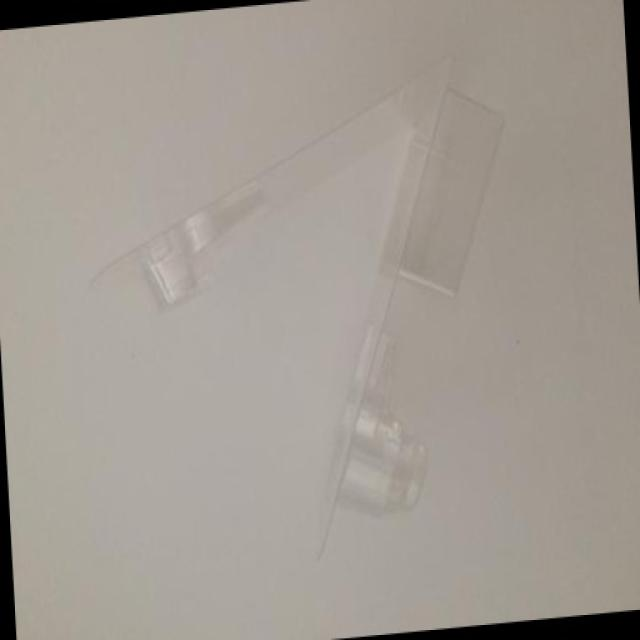plastico: (69, 50, 560, 579)
